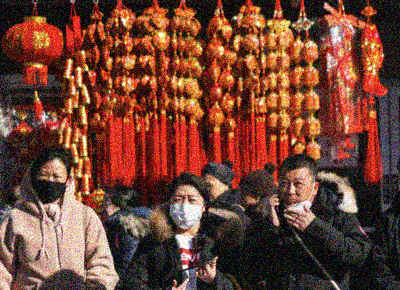mask_weared_incorrect: (279, 172, 313, 213)
with_mask: (32, 165, 67, 202), (171, 193, 204, 229)
without_mask: (240, 189, 258, 210), (102, 199, 118, 220)
